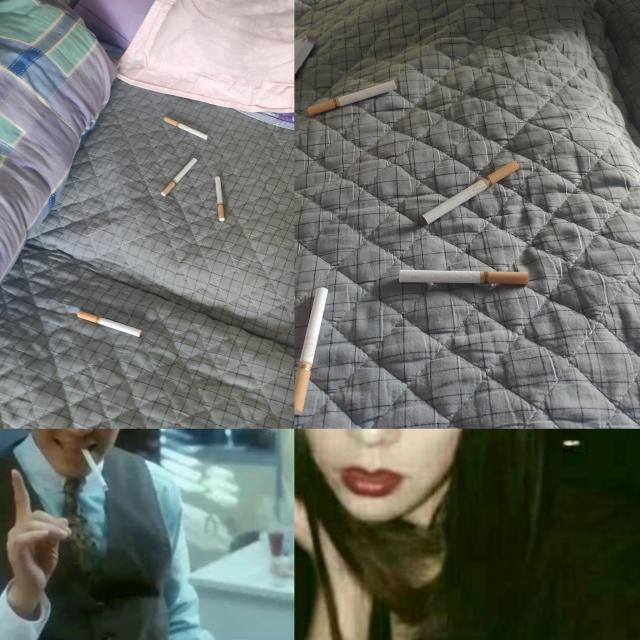smoking: (422, 160, 520, 225), (294, 287, 328, 416), (307, 80, 397, 116), (76, 310, 143, 338), (398, 270, 530, 284), (80, 447, 112, 493), (161, 158, 198, 196), (163, 116, 210, 140), (214, 176, 226, 222)
